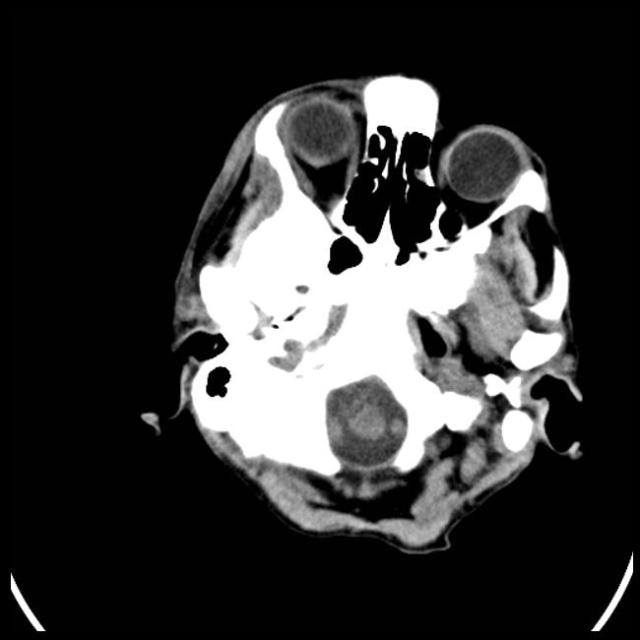lesion: (148, 70, 590, 556)
